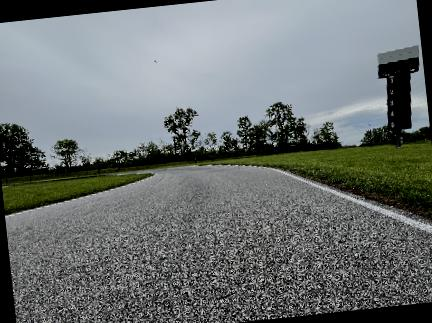Grass: (211, 144, 431, 208), (2, 173, 151, 213)
Lane: (5, 166, 431, 322)
